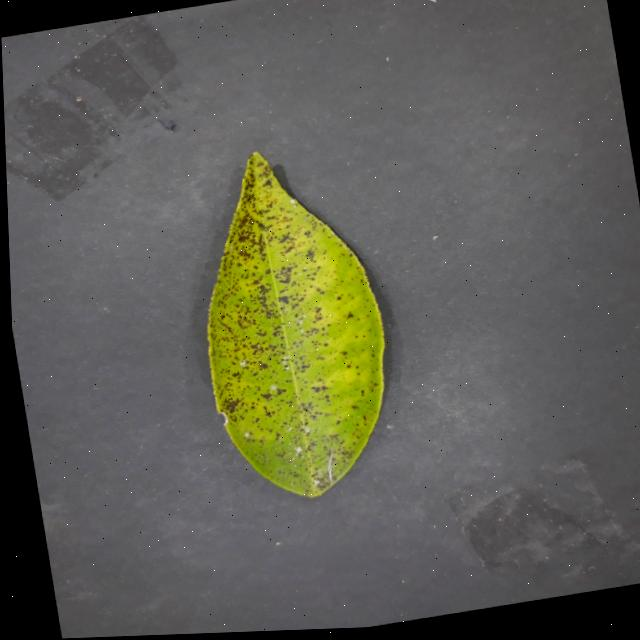greasy_spot: (207, 152, 382, 497)
